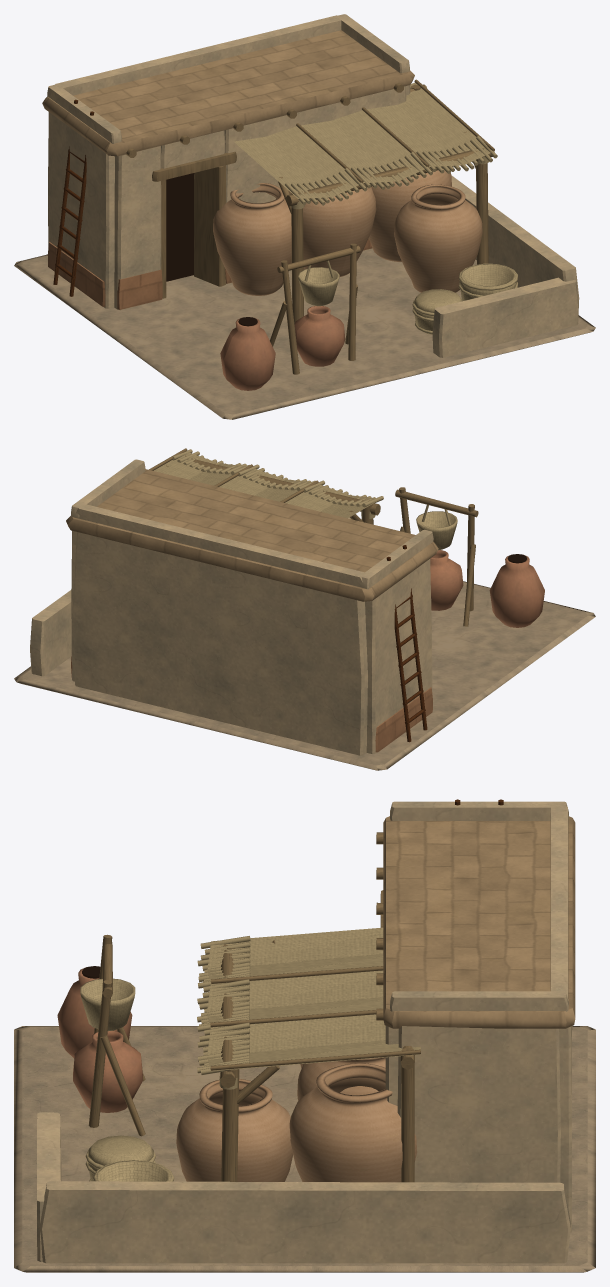
The model's file is brewery.glb.
The picture shows the model from 3 angles, top to bottom: view 1: azimuth 30°, elevation 25°; view 2: azimuth 150°, elevation 25°; view 3: azimuth 270°, elevation 25°; orthographic projection. The views are drawn at different scales.
Parts seen in each view (by area): view 1: original-brewery-warm-clay-plaster, original-brewery-alluvial-earth, original-brewery-game-raw-brick-facing, original-brewery-handmade-yard-craft, original-brewery-reed-mat, original-brewery-worn-timber, original-brewery-fired-pottery, original-brewery-game-door-shadow, original-brewery-game-fired-brick-facing, roof-access-brewery; view 2: original-brewery-warm-clay-plaster, original-brewery-game-raw-brick-facing, original-brewery-alluvial-earth, original-brewery-reed-mat, original-brewery-fired-pottery, original-brewery-worn-timber, roof-access-brewery, original-brewery-game-fired-brick-facing; view 3: original-brewery-warm-clay-plaster, original-brewery-game-raw-brick-facing, original-brewery-alluvial-earth, original-brewery-reed-mat, original-brewery-handmade-yard-craft, original-brewery-worn-timber, original-brewery-fired-pottery.
Part boxes in pixels (bbox=[...]): original-brewery-warm-clay-plaster: bbox=[47, 14, 579, 357]; original-brewery-alluvial-earth: bbox=[14, 249, 595, 419]; original-brewery-game-raw-brick-facing: bbox=[42, 30, 414, 156]; original-brewery-handmade-yard-craft: bbox=[213, 169, 482, 295]; original-brewery-reed-mat: bbox=[234, 82, 518, 334]; original-brewery-worn-timber: bbox=[126, 79, 494, 374]; original-brewery-fired-pottery: bbox=[220, 306, 345, 390]; original-brewery-game-door-shadow: bbox=[166, 173, 257, 326]; original-brewery-game-fired-brick-facing: bbox=[47, 239, 372, 309]; roof-access-brewery: bbox=[53, 99, 94, 296]; original-brewery-warm-clay-plaster: bbox=[30, 459, 433, 755]; original-brewery-game-raw-brick-facing: bbox=[66, 469, 438, 601]; original-brewery-alluvial-earth: bbox=[14, 581, 595, 770]; original-brewery-reed-mat: bbox=[153, 449, 457, 550]; original-brewery-fired-pottery: bbox=[430, 550, 544, 627]; original-brewery-worn-timber: bbox=[149, 448, 478, 626]; roof-access-brewery: bbox=[386, 545, 427, 742]; original-brewery-game-fired-brick-facing: bbox=[71, 656, 432, 752]; original-brewery-warm-clay-plaster: bbox=[37, 801, 572, 1263]; original-brewery-game-raw-brick-facing: bbox=[383, 816, 575, 1028]; original-brewery-alluvial-earth: bbox=[14, 1026, 595, 1272]; original-brewery-reed-mat: bbox=[80, 927, 420, 1181]; original-brewery-handmade-yard-craft: bbox=[176, 1057, 417, 1182]; original-brewery-worn-timber: bbox=[88, 832, 420, 1182]; original-brewery-fired-pottery: bbox=[57, 967, 142, 1112].
Bounding box in the file's own units: 5.37 × 2.52 × 5.37.
10 materials, 9 textured.
